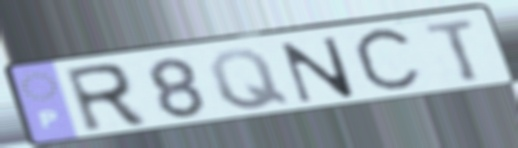8: (145, 56, 209, 121)
C: (349, 23, 427, 98)
N: (277, 34, 359, 106)
Q: (205, 46, 295, 112)
R: (59, 60, 152, 136)
T: (421, 15, 486, 85)
